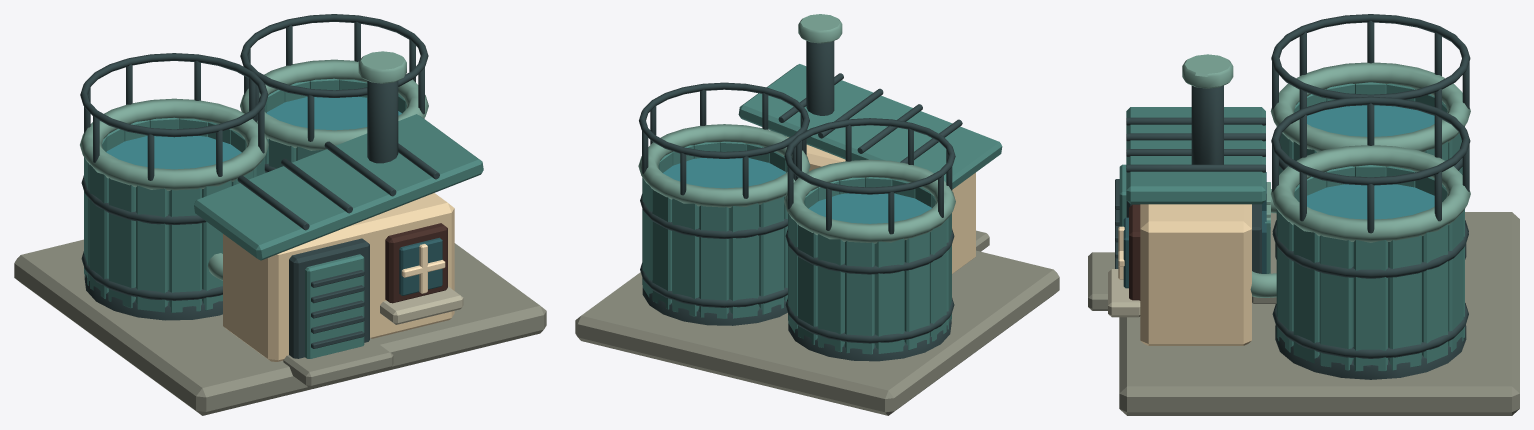
Rendered from water_plant.glb.
The picture shows the model from 3 angles, left to right: view 1: azimuth 30°, elevation 25°; view 2: azimuth 150°, elevation 25°; view 3: azimuth 270°, elevation 25°; orthographic projection. The views are drawn at different scales.
Visible parts, largest first — view 1: water_plant · copper, water_plant · stone, water_plant · metal, water_plant · copper_light, water_plant · plaster, water_plant · water, water_plant · wood, water_plant · stone_light, water_plant · window, water_plant · plaster_light; view 2: water_plant · copper, water_plant · stone, water_plant · metal, water_plant · copper_light, water_plant · water, water_plant · plaster; view 3: water_plant · copper, water_plant · stone, water_plant · metal, water_plant · copper_light, water_plant · plaster, water_plant · water, water_plant · wood, water_plant · stone_light, water_plant · window.
Part boxes in pixels (x1,y1,x2,y2): water_plant · copper: [84, 78, 483, 358]; water_plant · stone: [14, 239, 546, 415]; water_plant · metal: [80, 14, 439, 358]; water_plant · copper_light: [80, 51, 428, 280]; water_plant · plaster: [223, 193, 454, 361]; water_plant · water: [106, 96, 401, 169]; water_plant · wood: [385, 223, 447, 303]; water_plant · stone_light: [380, 286, 463, 324]; water_plant · window: [399, 237, 442, 295]; water_plant · plaster_light: [401, 244, 445, 293]; water_plant · copper: [642, 64, 1002, 354]; water_plant · stone: [575, 230, 1059, 415]; water_plant · metal: [639, 41, 962, 361]; water_plant · copper_light: [638, 14, 955, 243]; water_plant · water: [663, 158, 931, 223]; water_plant · plaster: [786, 136, 975, 273]; water_plant · copper: [1119, 82, 1464, 371]; water_plant · stone: [1088, 212, 1519, 415]; water_plant · metal: [1115, 14, 1470, 379]; water_plant · copper_light: [1182, 54, 1470, 297]; water_plant · plaster: [1140, 204, 1251, 345]; water_plant · water: [1307, 105, 1434, 219]; water_plant · wood: [1129, 204, 1140, 300]; water_plant · stone_light: [1108, 269, 1140, 317]; water_plant · window: [1123, 172, 1266, 288].
Bounding box in the file's own units: 0.92 × 0.6875 × 0.927.
